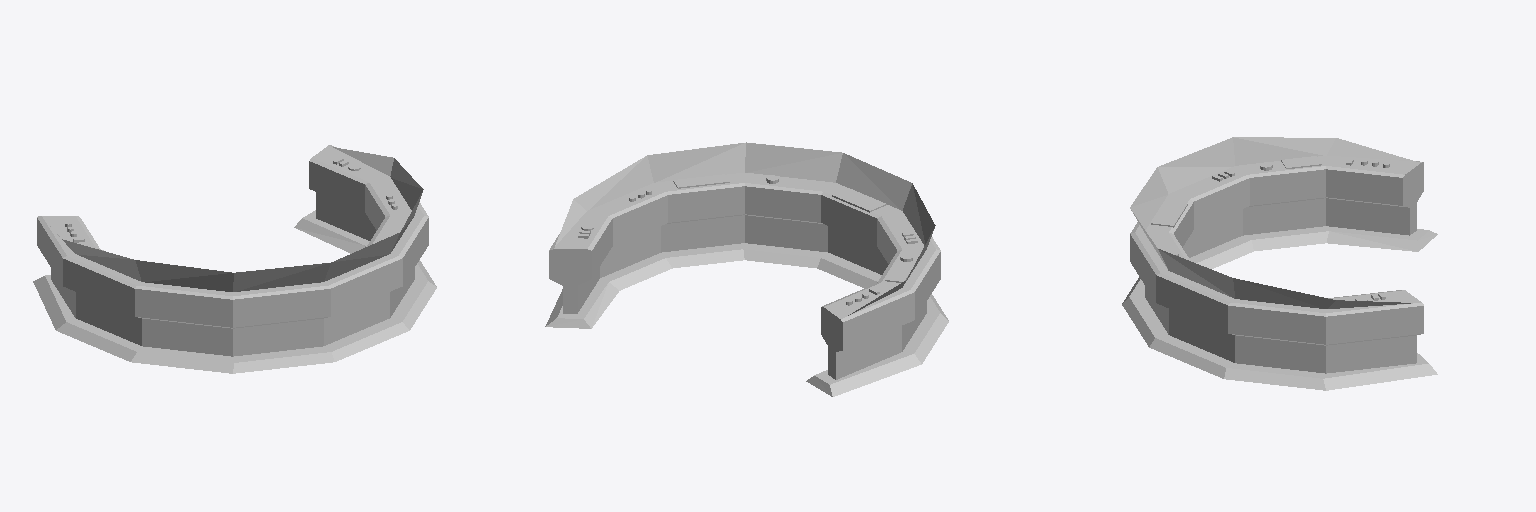
The model's file is Command_Console.obj.
3 views of the same model, side by side, from view 1: azimuth 30°, elevation 25°; view 2: azimuth 150°, elevation 25°; view 3: azimuth 270°, elevation 25° (orthographic).
Visible parts, largest first — view 1: Command_Console; view 2: Command_Console; view 3: Command_Console.
Part boxes in pixels (bbox=[...]): Command_Console: bbox=[33, 145, 436, 373]; Command_Console: bbox=[545, 142, 948, 396]; Command_Console: bbox=[1122, 137, 1437, 390].
Bounding box in the file's own units: 6.31 × 1.65 × 4.88.